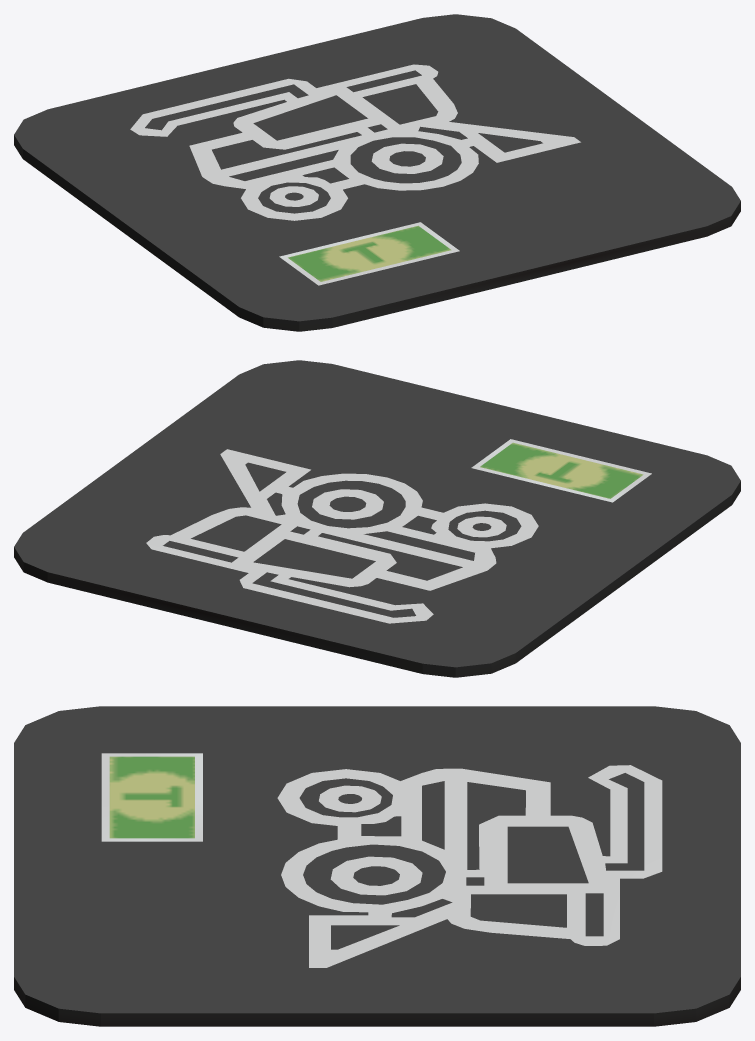
File: tubiao_05_famuji.FBX
The picture shows the model from 3 angles, top to bottom: view 1: azimuth 30°, elevation 25°; view 2: azimuth 150°, elevation 25°; view 3: azimuth 270°, elevation 25°; orthographic projection. The views are drawn at different scales.
Parts seen in each view (by area): view 1: tubiao_05_famuji; view 2: tubiao_05_famuji; view 3: tubiao_05_famuji.
Part boxes in pixels (<box>): tubiao_05_famuji: <box>14,14,740,331</box>; tubiao_05_famuji: <box>14,360,740,677</box>; tubiao_05_famuji: <box>14,706,740,1026</box>.
Size of the model in its own units: 205 by 4.88 by 205.
